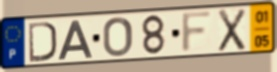8: (140, 12, 168, 57)
A: (57, 19, 95, 61)
D: (27, 20, 59, 64)
F: (179, 9, 215, 55)
O: (102, 16, 135, 59)
X: (217, 7, 248, 54)
